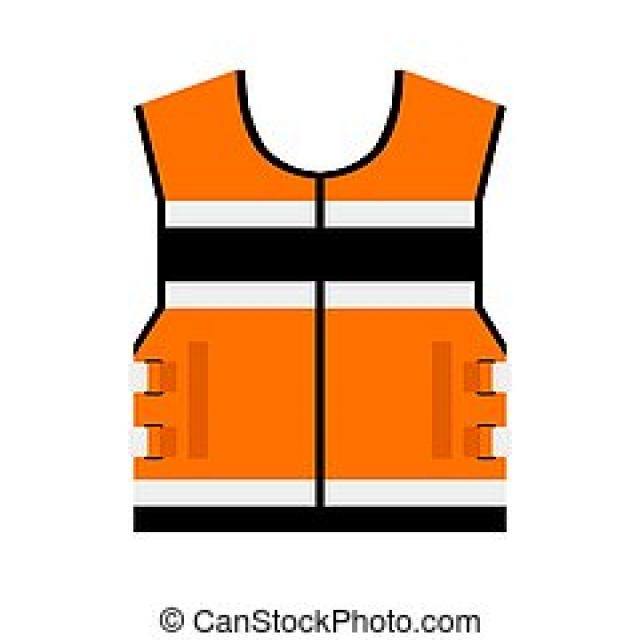Reflective-Jacket: (93, 43, 558, 512)
